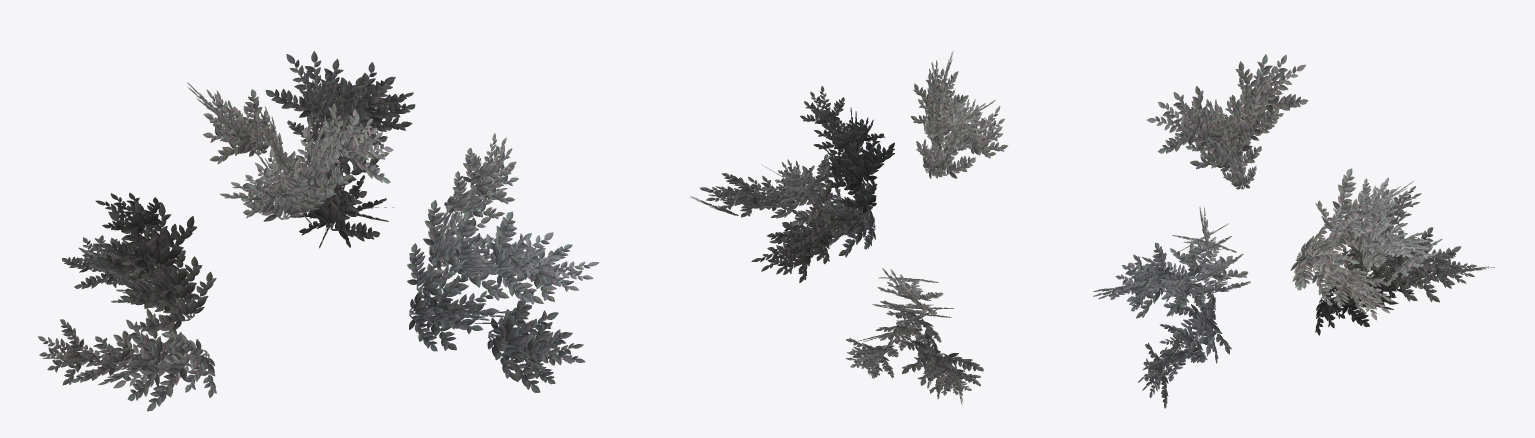
Rendered from sapling_l0.gltf.
3 views of the same model, side by side, from view 1: azimuth 30°, elevation 25°; view 2: azimuth 150°, elevation 25°; view 3: azimuth 270°, elevation 25° (orthographic). The views are drawn at different scales.
Parts seen in each view (by area): view 1: sapling_l0; view 2: sapling_l0; view 3: sapling_l0.
Part boxes in pixels (box(x1,y1,x2,y2)): sapling_l0: box(38, 51, 599, 411); sapling_l0: box(690, 51, 1008, 404); sapling_l0: box(1093, 54, 1494, 408).
Size of the model in its own units: 3.93 by 3.48 by 4.53.
Materials: 1 (1 with a texture image).
